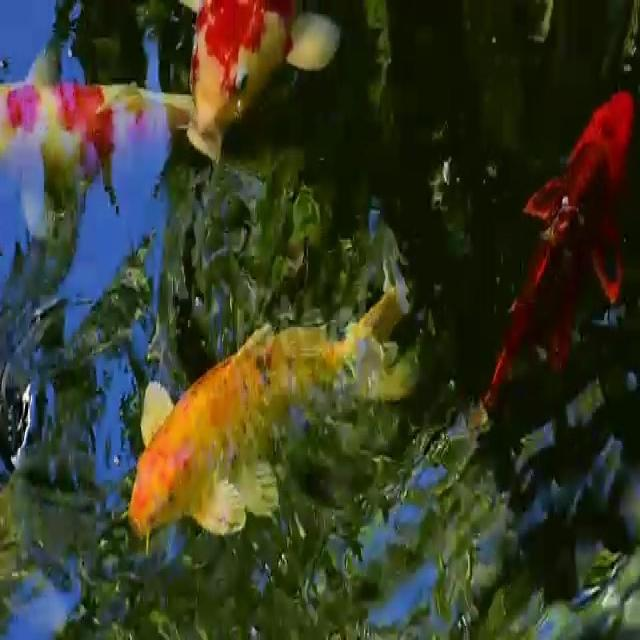fish: (120, 257, 427, 545), (484, 67, 640, 454), (173, 0, 354, 169)
